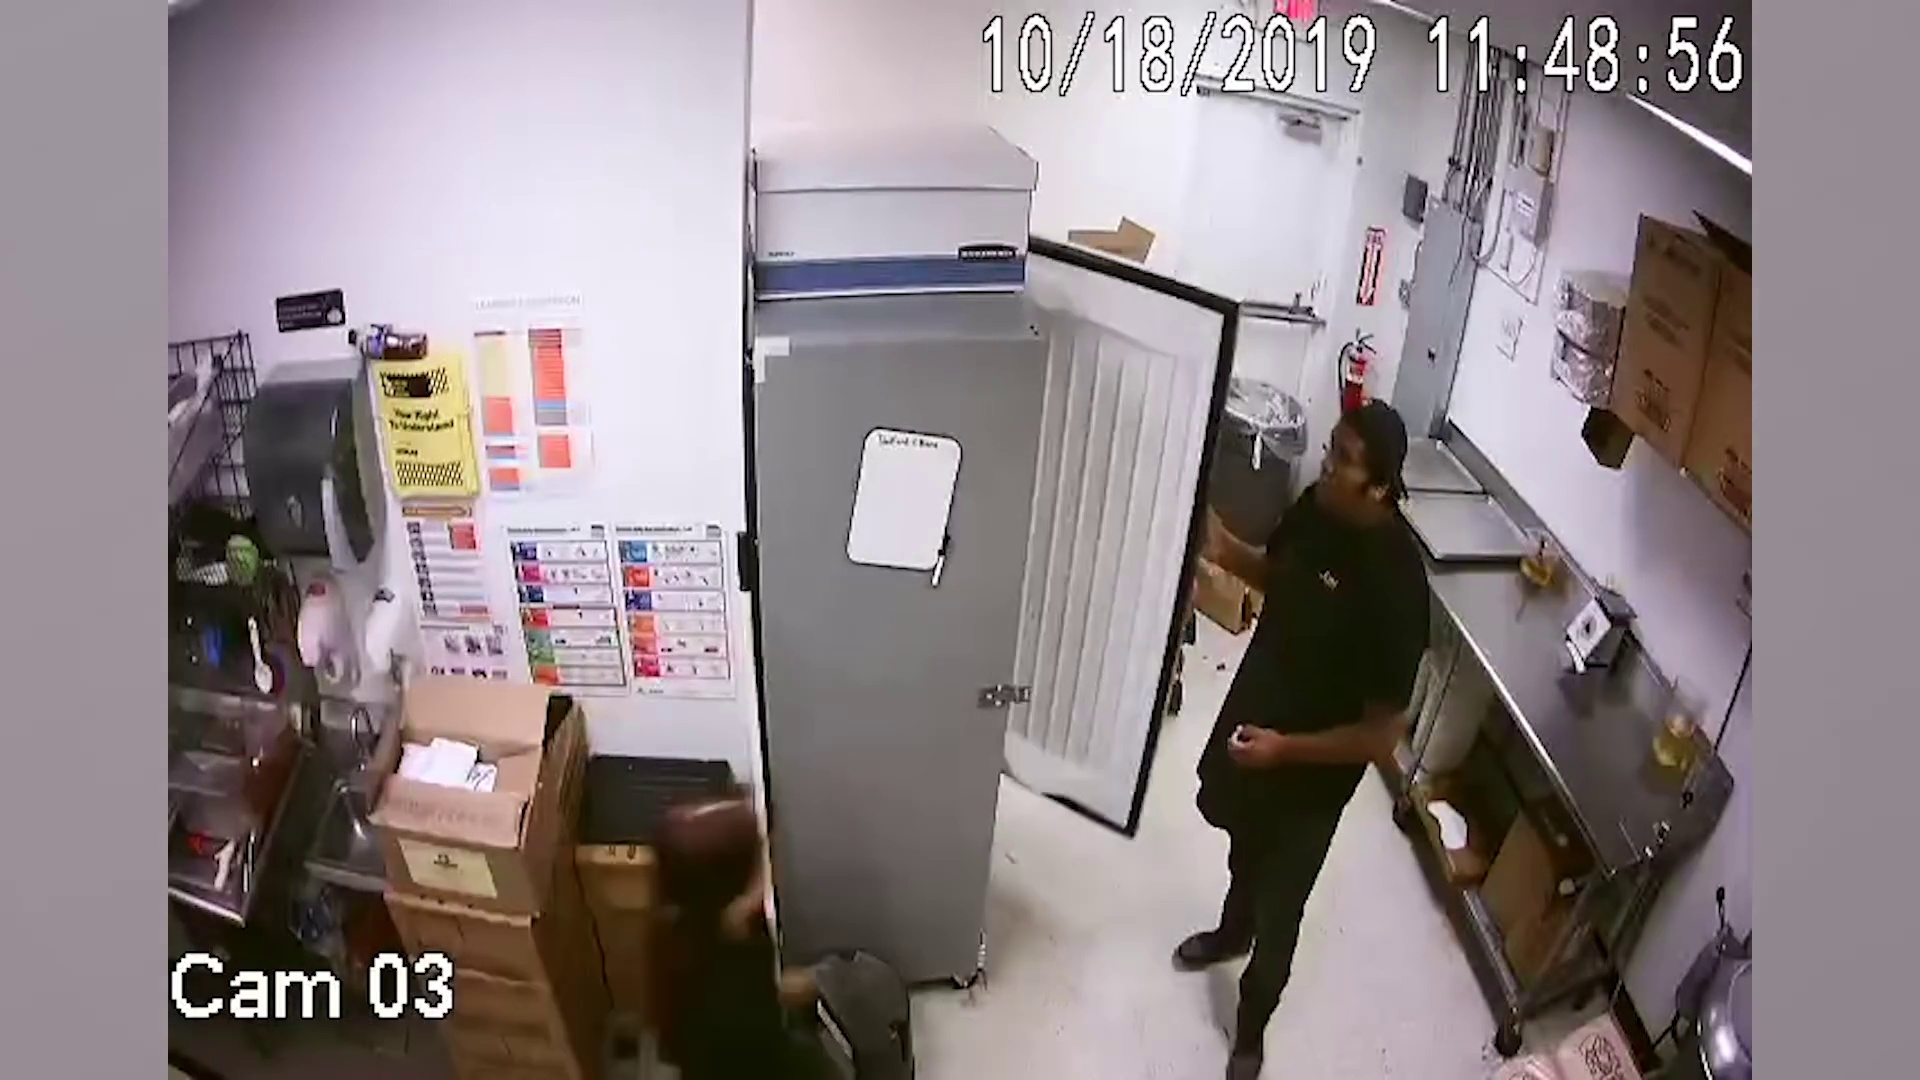face: (1318, 432, 1376, 511)
